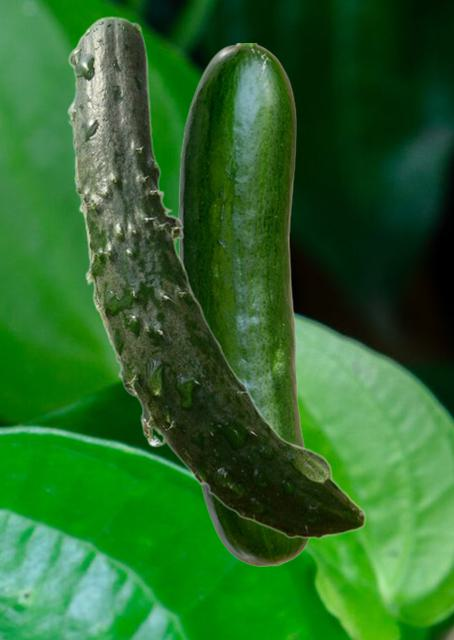cucumber: (66, 16, 365, 538), (178, 43, 311, 565)
